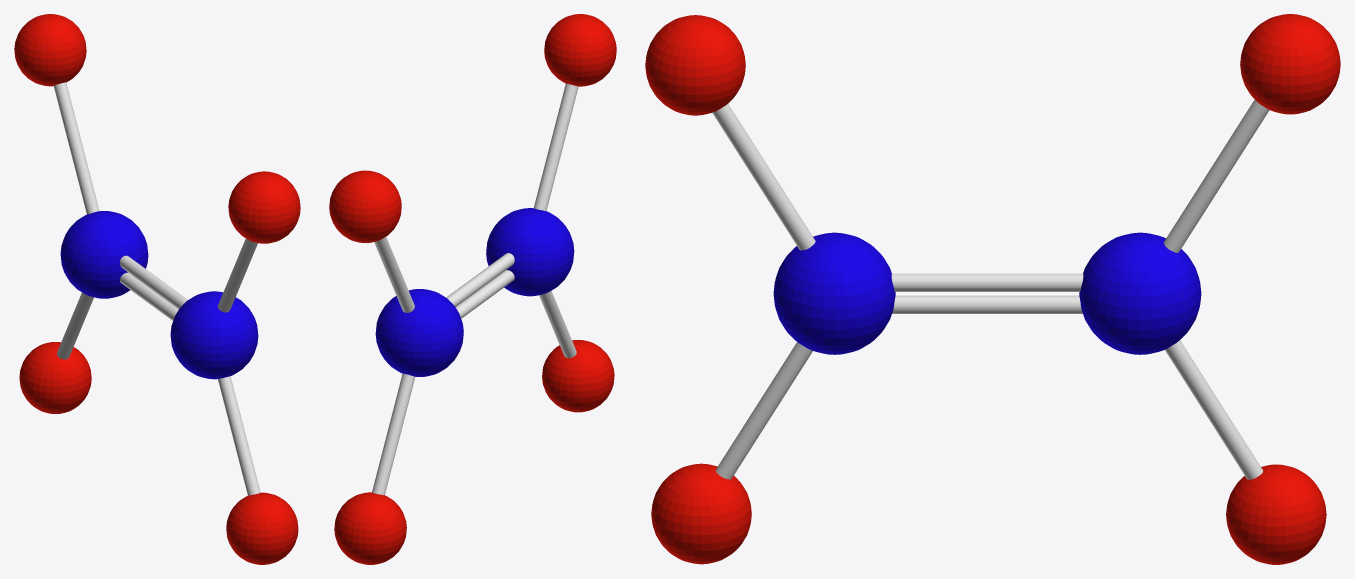
The picture shows the model from 3 angles, left to right: view 1: azimuth 30°, elevation 25°; view 2: azimuth 150°, elevation 25°; view 3: azimuth 270°, elevation 25°; orthographic projection. The views are drawn at different scales.
Visible parts, largest first — view 1: Sphere, Sphere.001, Sphere.003, Sphere.002, Sphere.004, Sphere.005, Cylinder.004, Cylinder.003, Cylinder, Cylinder.005, Cylinder.002, Cylinder.001; view 2: Sphere.001, Sphere, Sphere.003, Sphere.004, Sphere.005, Sphere.002, Cylinder.005, Cylinder.002, Cylinder.004, Cylinder, Cylinder.003, Cylinder.001; view 3: Sphere.001, Sphere, Sphere.003, Sphere.004, Sphere.005, Sphere.002, Cylinder, Cylinder.001, Cylinder.004, Cylinder.005, Cylinder.002, Cylinder.003.
Part boxes in pixels (x1=…): Sphere: x1=170, y1=291, x2=258, y2=379; Sphere.001: x1=60, y1=211, x2=148, y2=298; Sphere.003: x1=228, y1=171, x2=300, y2=243; Sphere.002: x1=226, y1=492, x2=298, y2=564; Sphere.004: x1=14, y1=14, x2=86, y2=86; Sphere.005: x1=19, y1=342, x2=91, y2=413; Cylinder.004: x1=53, y1=82, x2=99, y2=214; Cylinder.003: x1=218, y1=376, x2=260, y2=495; Cylinder: x1=120, y1=255, x2=187, y2=309; Cylinder.005: x1=218, y1=238, x2=257, y2=312; Cylinder.002: x1=57, y1=292, x2=93, y2=359; Cylinder.001: x1=120, y1=272, x2=178, y2=320; Sphere.001: x1=375, y1=289, x2=463, y2=376; Sphere: x1=486, y1=208, x2=574, y2=296; Sphere.003: x1=544, y1=14, x2=616, y2=86; Sphere.004: x1=329, y1=170, x2=401, y2=242; Sphere.005: x1=334, y1=492, x2=406, y2=564; Sphere.002: x1=542, y1=340, x2=614, y2=412; Cylinder.005: x1=534, y1=83, x2=578, y2=211; Cylinder.002: x1=372, y1=373, x2=415, y2=495; Cylinder.004: x1=374, y1=237, x2=414, y2=312; Cylinder: x1=446, y1=253, x2=514, y2=306; Cylinder.003: x1=539, y1=291, x2=576, y2=358; Cylinder.001: x1=455, y1=270, x2=514, y2=318; Sphere.001: x1=1079, y1=232, x2=1201, y2=354; Sphere: x1=773, y1=232, x2=895, y2=354; Sphere.003: x1=645, y1=15, x2=745, y2=115; Sphere.004: x1=1240, y1=14, x2=1340, y2=114; Sphere.005: x1=1226, y1=464, x2=1326, y2=564; Sphere.002: x1=651, y1=463, x2=751, y2=564; Cylinder: x1=891, y1=273, x2=1083, y2=291; Cylinder.001: x1=892, y1=295, x2=1082, y2=313; Cylinder.004: x1=1163, y1=99, x2=1269, y2=252; Cylinder.005: x1=712, y1=104, x2=815, y2=250; Cylinder.002: x1=1165, y1=340, x2=1263, y2=479; Cylinder.003: x1=715, y1=342, x2=812, y2=479.
Bounding box in the file's own units: 2 × 9.78 × 11.38.
